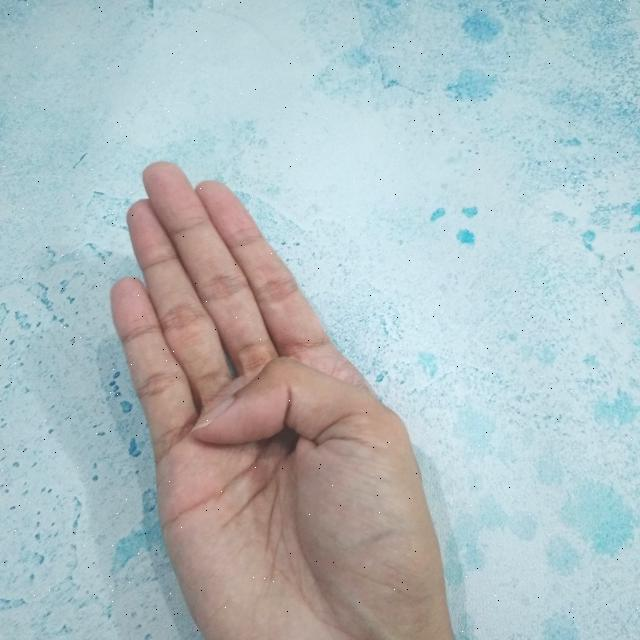B: (102, 155, 457, 640), (107, 160, 456, 640)
